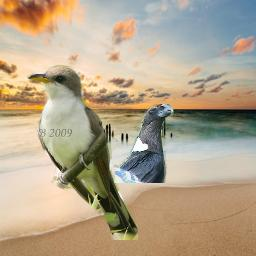Crow: (114, 104, 174, 183)
Cuckoo: (27, 64, 138, 240)
